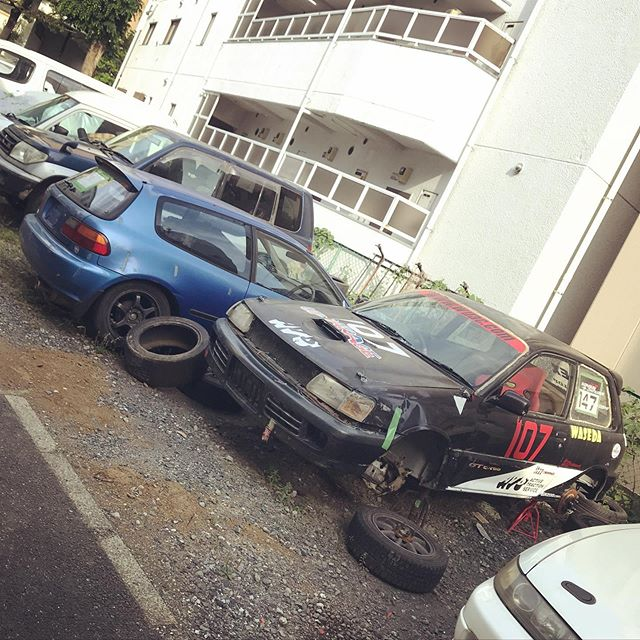building: (139, 7, 640, 288)
car: (176, 282, 640, 517), (25, 154, 340, 363)
